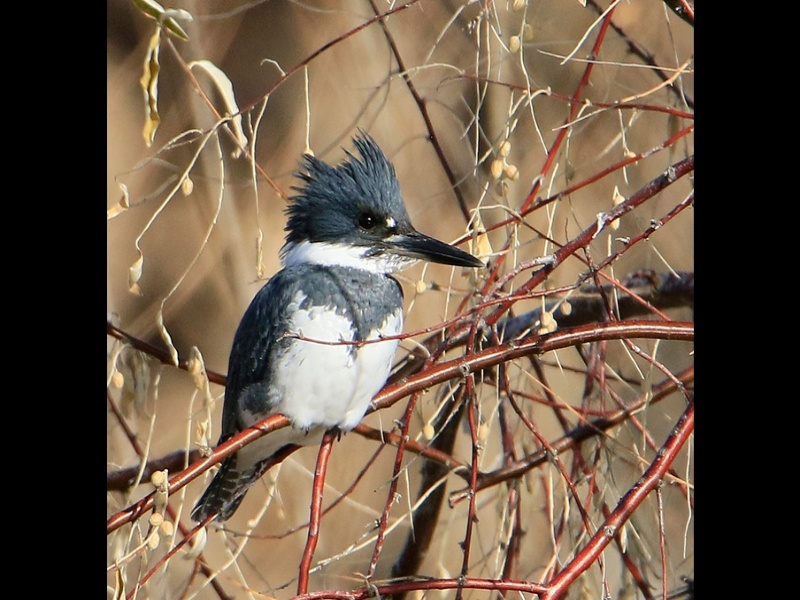kingfisher: (189, 130, 486, 541)
